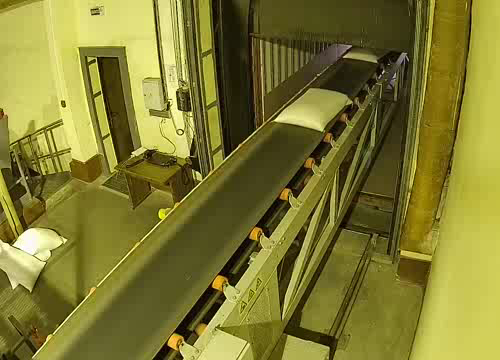bag: (269, 88, 356, 132), (343, 45, 389, 64)
